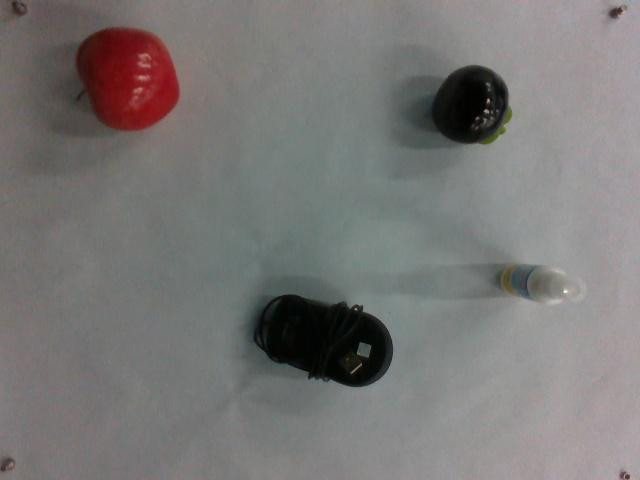apple: (71, 25, 181, 135)
detergent: (500, 260, 588, 314)
mangosteen: (430, 63, 517, 147)
mouse: (254, 291, 396, 389)
